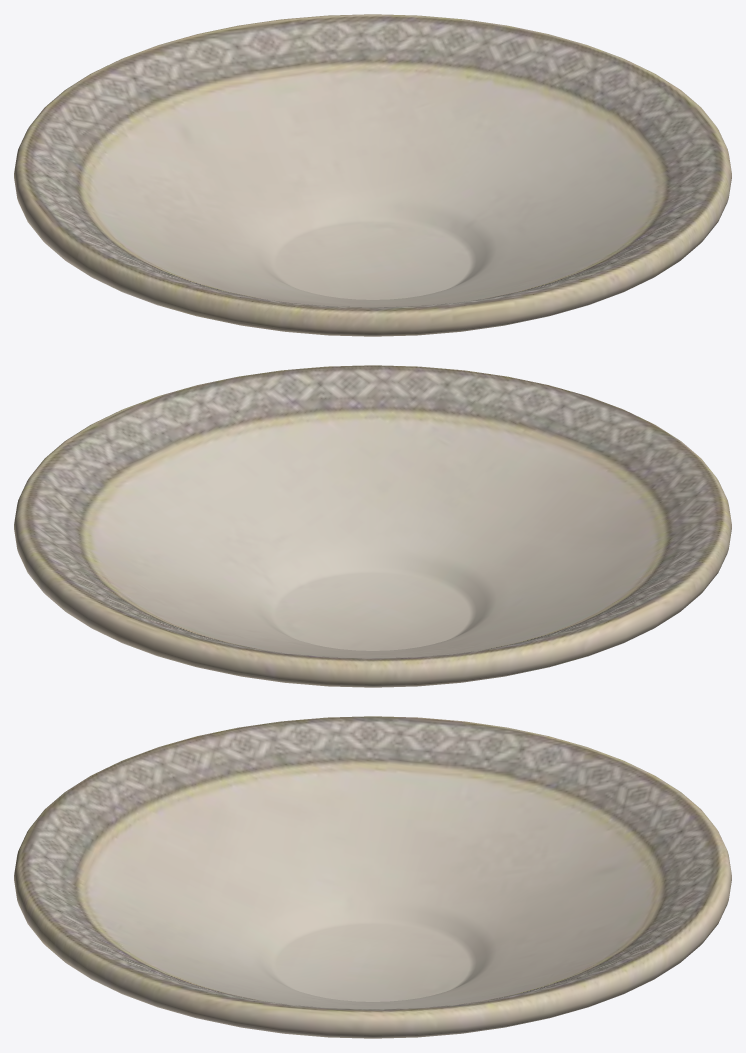
Rendered from tea_plate.glb.
3 renders of one model, top to bottom at view 1: azimuth 30°, elevation 25°; view 2: azimuth 150°, elevation 25°; view 3: azimuth 270°, elevation 25°, orthographic.
Visible parts, largest first — view 1: tea_set_01_plate_large_circular_03.001; view 2: tea_set_01_plate_large_circular_03.001; view 3: tea_set_01_plate_large_circular_03.001.
Boxes of the visible parts, <box> form: tea_set_01_plate_large_circular_03.001: <box>14,14,731,336</box>; tea_set_01_plate_large_circular_03.001: <box>14,365,731,687</box>; tea_set_01_plate_large_circular_03.001: <box>14,716,731,1038</box>.
Bounding box in the file's own units: 4.34 × 0.8721 × 4.34.
1 material, 1 textured.
